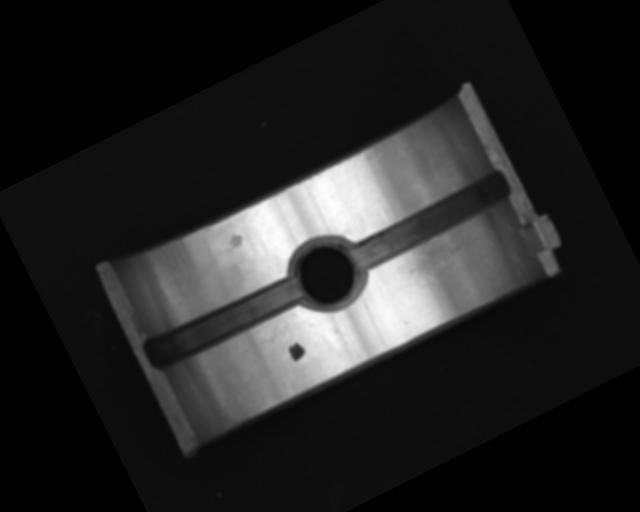blot: (285, 338, 308, 363)
bruise: (226, 231, 246, 251)
gap: (345, 166, 516, 275), (141, 270, 306, 375)
hole: (278, 228, 373, 321)
nick: (353, 171, 387, 225)
scratch: (400, 222, 487, 292)
